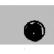correct: (22, 19, 48, 43)
